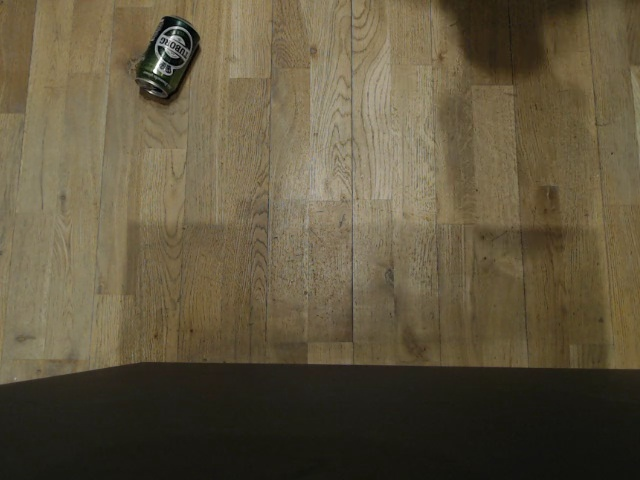beer: (129, 12, 209, 107)
